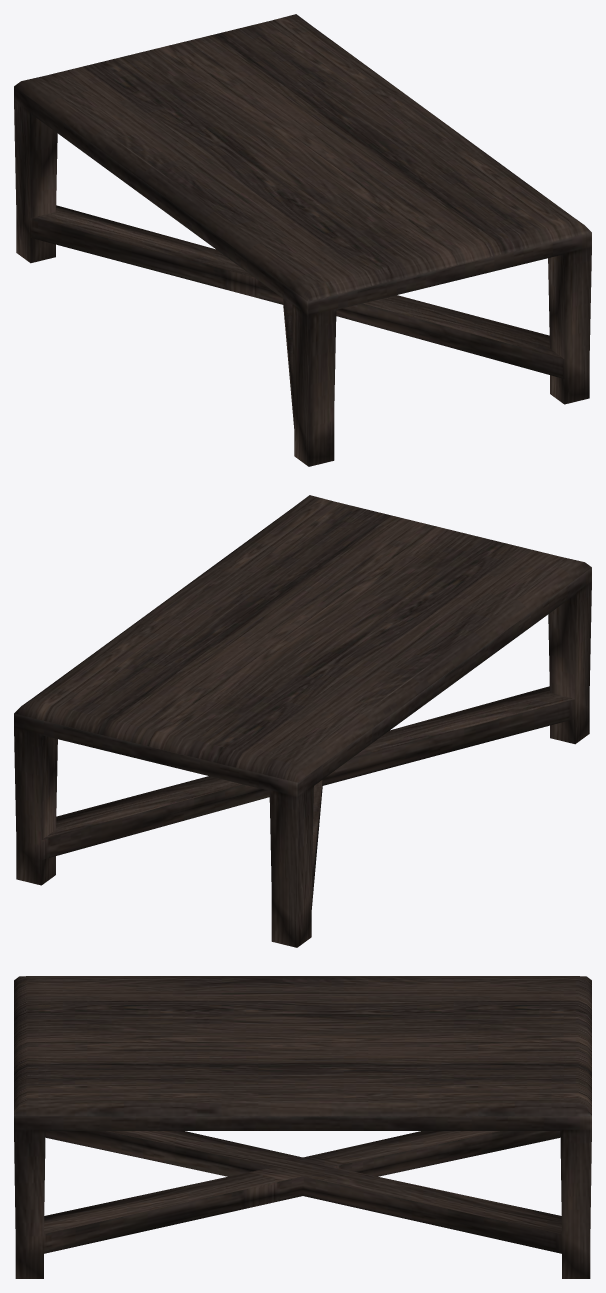
Rendered from coffee_table_1.obj.
The picture shows the model from 3 angles, top to bottom: view 1: azimuth 30°, elevation 25°; view 2: azimuth 150°, elevation 25°; view 3: azimuth 270°, elevation 25°; orthographic projection.
Parts seen in each view (by area): view 1: coffee_table_1; view 2: coffee_table_1; view 3: coffee_table_1.
Boxes of the visible parts, x1,y1,x2,y2 form: coffee_table_1: (14, 14, 591, 466); coffee_table_1: (14, 495, 591, 947); coffee_table_1: (14, 976, 591, 1278).
Bounding box in the file's own units: 5.04 × 2.98 × 9.06.
1 material, 1 textured.
